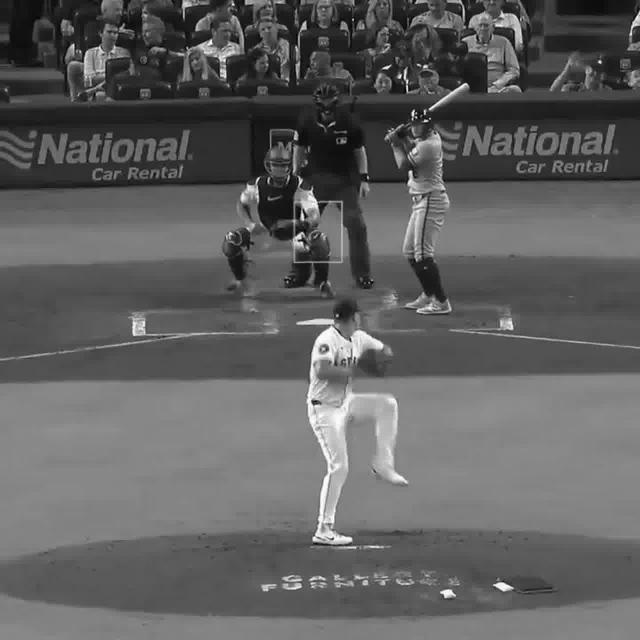base: (295, 316, 338, 327)
baseball_glove: (272, 218, 310, 240), (355, 350, 386, 376)
bat: (386, 77, 473, 143)
shoe: (370, 469, 412, 488), (308, 529, 352, 546), (221, 275, 253, 295), (418, 300, 452, 314), (408, 294, 431, 309), (318, 280, 334, 295)
